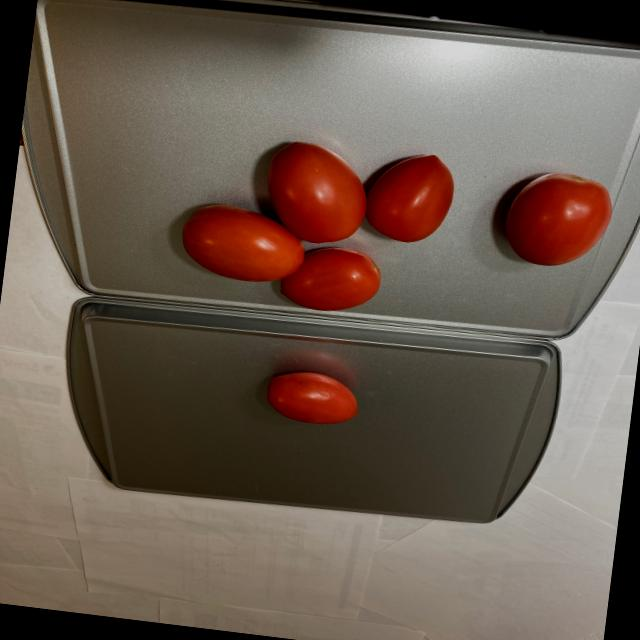tomato: (172, 123, 463, 322), (497, 156, 622, 276), (256, 361, 370, 428)
